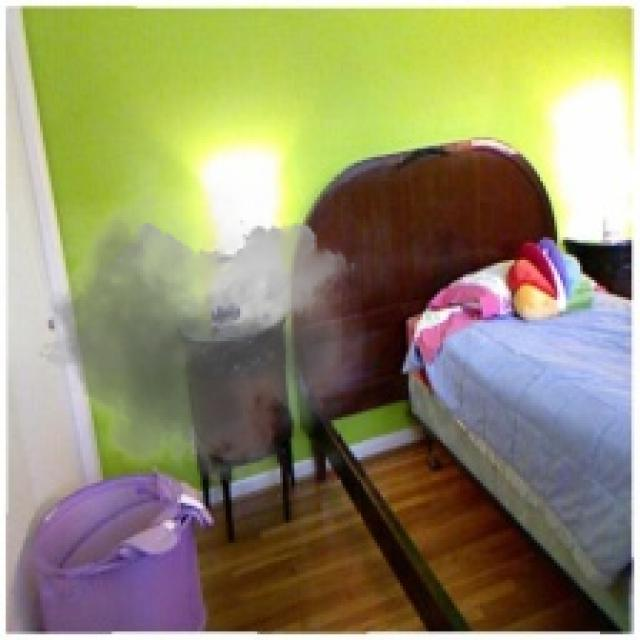smoke: (26, 151, 368, 503)
